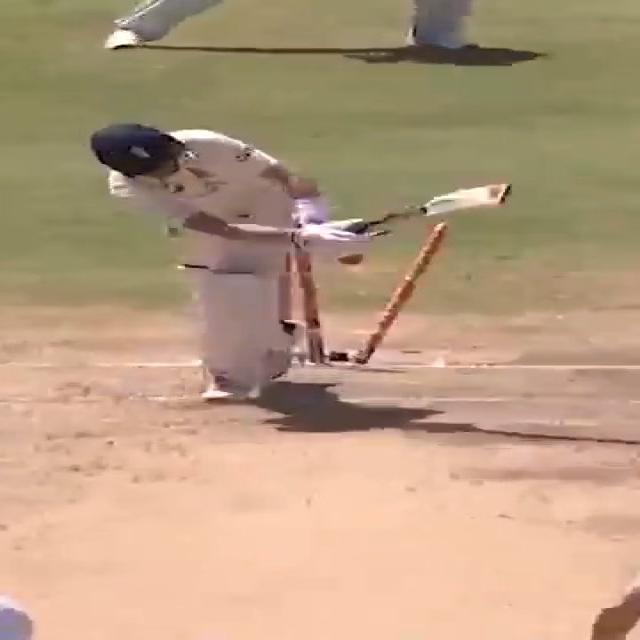Cricket ball: (336, 249, 365, 266)
